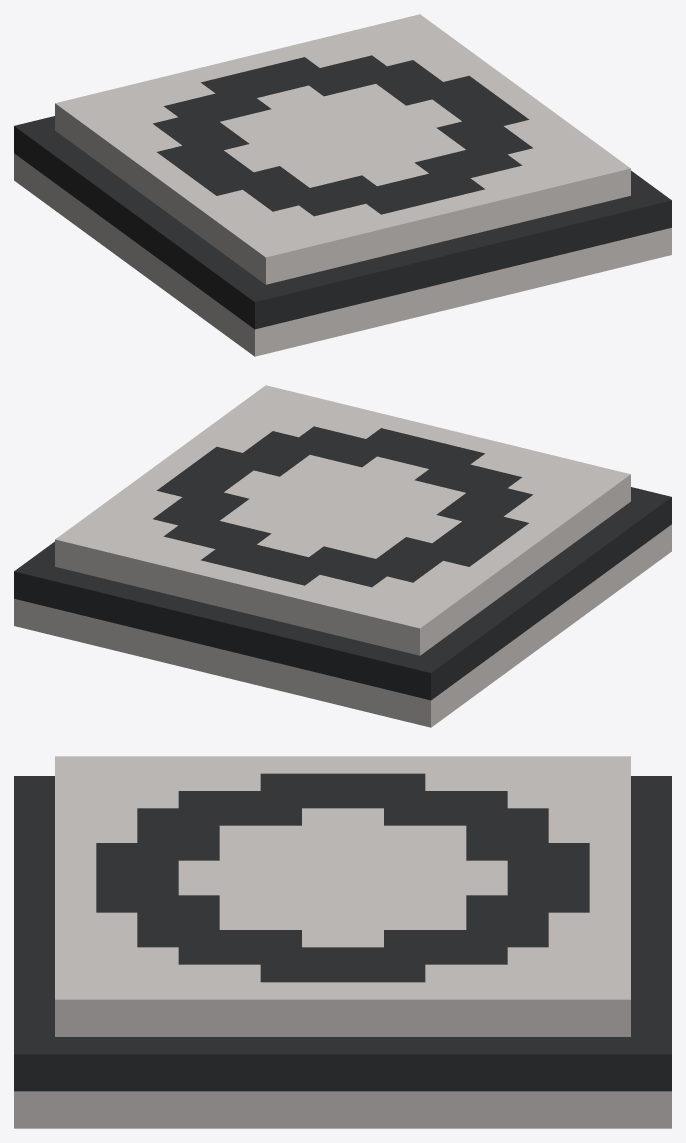
File: o-v3-white-black.gltf
The picture shows the model from 3 angles, top to bottom: view 1: azimuth 30°, elevation 25°; view 2: azimuth 150°, elevation 25°; view 3: azimuth 270°, elevation 25°; orthographic projection. The views are drawn at different scales.
Parts seen in each view (by area): view 1: Untitled; view 2: Untitled; view 3: Untitled.
Part boxes in pixels (x1,y1,x2,y2): Untitled: (14, 14, 671, 356); Untitled: (14, 385, 671, 727); Untitled: (14, 756, 671, 1128).
Size of the model in its own units: 1.6 by 0.3 by 1.6.
Materials: 1 (1 with a texture image).
